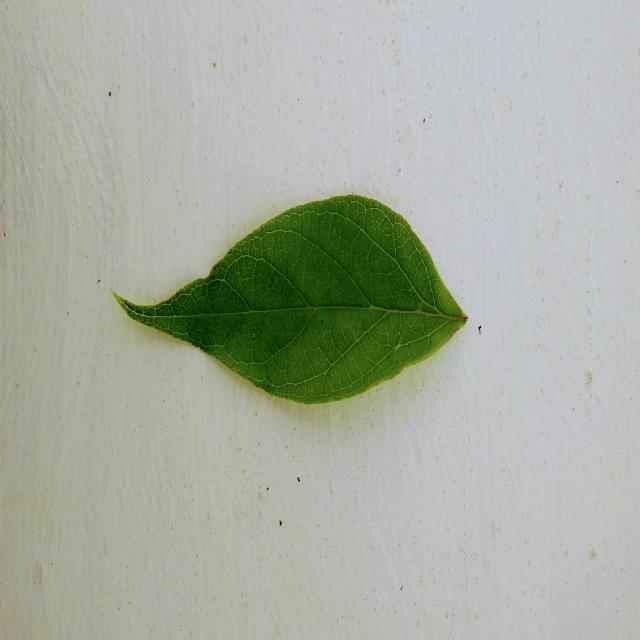Parijatha: (115, 196, 468, 404)
